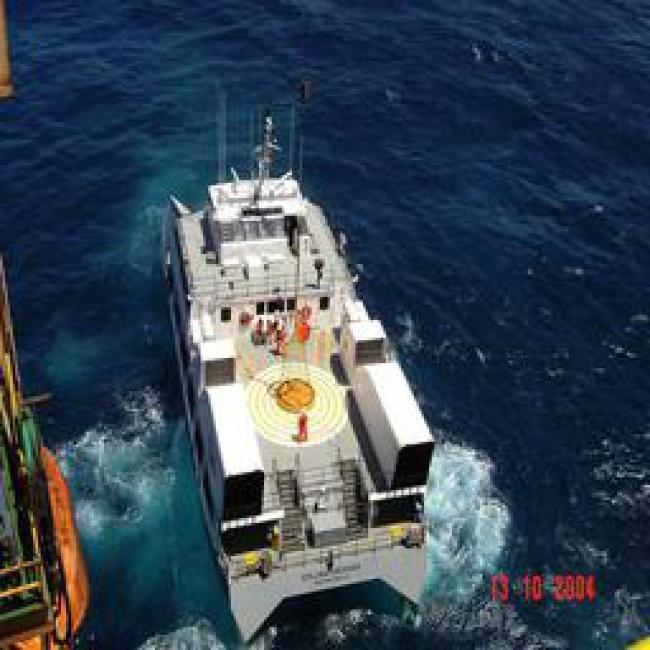Ship: (136, 189, 450, 610)
